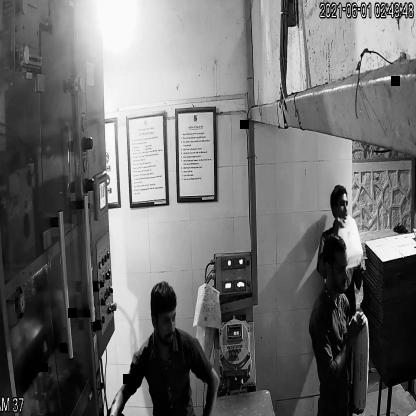no_goggles: (150, 309, 181, 333)
